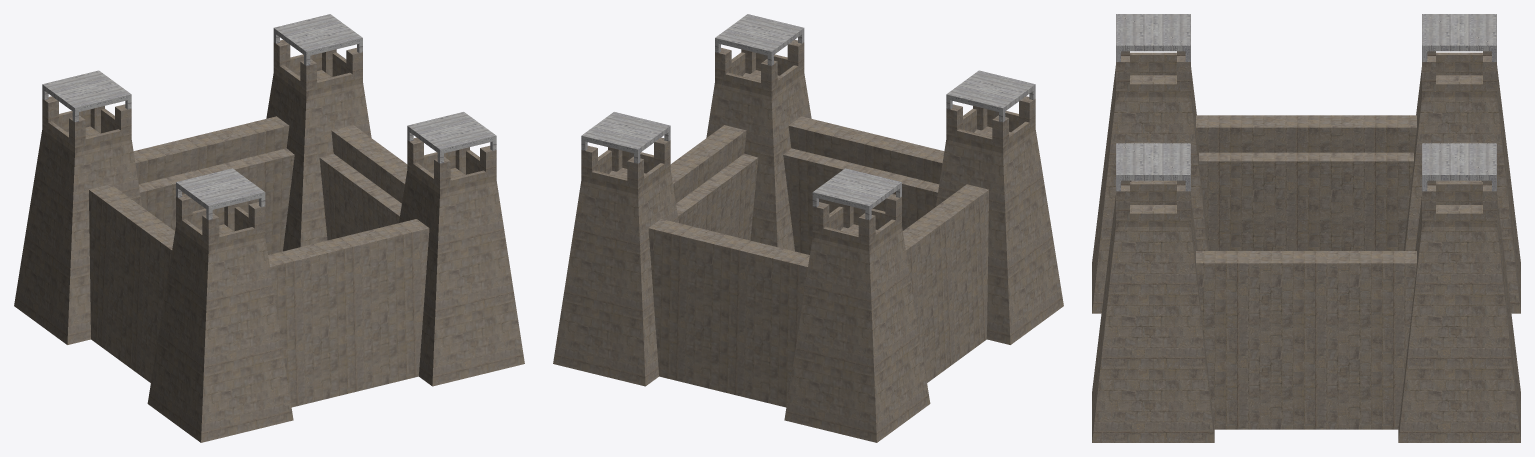
Rendered from TowerBase.FBX.
3 renders of one model, left to right at view 1: azimuth 30°, elevation 25°; view 2: azimuth 150°, elevation 25°; view 3: azimuth 270°, elevation 25°, orthographic. The views are drawn at different scales.
Parts seen in each view (by area): view 1: Box001, Box006, Box003, Box002, Box008, Box004, Box005, Box007, Shape001, Shape002, Shape, Shape003; view 2: Box002, Box005, Box004, Box001, Box008, Box003, Box006, Box007, Shape, Shape001, Shape003, Shape002; view 3: Box007, Box008, Box004, Box003, Box002, Box001, Shape002, Shape003, Shape001, Shape.
Part boxes in pixels (x1=…): Box001: x1=147, y1=194, x2=293, y2=442; Box006: x1=268, y1=219, x2=429, y2=407; Box003: x1=399, y1=137, x2=524, y2=386; Box002: x1=14, y1=96, x2=141, y2=344; Box008: x1=89, y1=184, x2=174, y2=382; Box004: x1=266, y1=40, x2=371, y2=251; Box005: x1=133, y1=116, x2=294, y2=254; Box007: x1=319, y1=125, x2=407, y2=240; Shape001: x1=42, y1=70, x2=131, y2=112; Shape002: x1=273, y1=14, x2=362, y2=56; Shape: x1=176, y1=168, x2=265, y2=210; Shape003: x1=407, y1=112, x2=496, y2=154; Box002: x1=784, y1=194, x2=930, y2=442; Box005: x1=648, y1=219, x2=809, y2=407; Box004: x1=553, y1=137, x2=678, y2=386; Box001: x1=936, y1=96, x2=1063, y2=344; Box008: x1=903, y1=184, x2=988, y2=382; Box003: x1=706, y1=40, x2=811, y2=251; Box006: x1=783, y1=116, x2=944, y2=254; Box007: x1=670, y1=125, x2=758, y2=240; Shape: x1=946, y1=70, x2=1035, y2=112; Shape001: x1=812, y1=168, x2=901, y2=210; Shape003: x1=715, y1=14, x2=804, y2=56; Shape002: x1=581, y1=112, x2=670, y2=153; Box007: x1=1196, y1=251, x2=1416, y2=429; Box008: x1=1196, y1=115, x2=1416, y2=250; Box004: x1=1398, y1=180, x2=1520, y2=442; Box003: x1=1092, y1=180, x2=1214, y2=442; Box002: x1=1403, y1=51, x2=1520, y2=313; Box001: x1=1092, y1=51, x2=1209, y2=313; Shape002: x1=1422, y1=143, x2=1496, y2=180; Shape003: x1=1116, y1=143, x2=1190, y2=180; Shape001: x1=1422, y1=14, x2=1496, y2=51; Shape: x1=1116, y1=14, x2=1190, y2=51.
Size of the model in its own units: 700 by 466 by 700.
